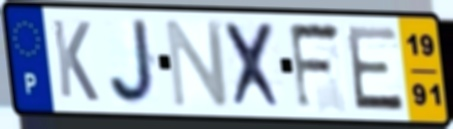E: (343, 24, 407, 114)
F: (286, 20, 345, 114)
J: (106, 17, 161, 108)
K: (48, 16, 101, 104)
N: (163, 18, 232, 110)
X: (220, 19, 287, 113)
